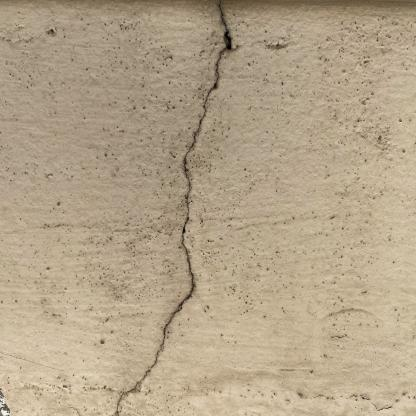crack: (117, 0, 231, 416)
